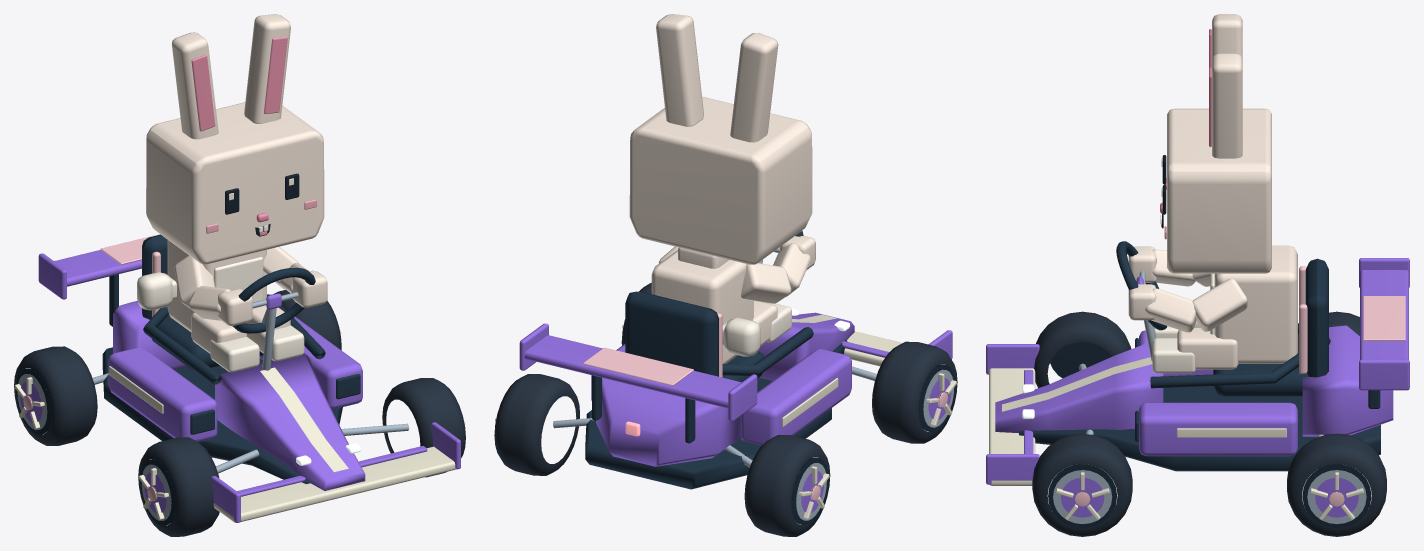
Rendered from kart_sora.glb.
3 views of the same model, side by side, from view 1: azimuth 30°, elevation 25°; view 2: azimuth 150°, elevation 25°; view 3: azimuth 270°, elevation 25° (orthographic). The views are drawn at different scales.
Parts seen in each view (by area): view 1: chassis, driver_pose, wheel_rl_spin, wheel_fl_spin, ear_r, ear_l, wheel_fr_spin, steering, wheel_rr_spin, tail, eyes; view 2: chassis, driver_pose, wheel_fl_spin, wheel_rl_spin, wheel_rr_spin, ear_r, ear_l, tail; view 3: chassis, driver_pose, wheel_fr_spin, wheel_rr_spin, wheel_fl_spin, ear_r, ear_l, steering.
Part boxes in pixels (box(x1,y1,x2,y2)): chassis: box(38, 234, 460, 522); driver_pose: box(146, 102, 327, 372); wheel_rl_spin: box(14, 346, 97, 445); wheel_fl_spin: box(138, 437, 219, 536); ear_r: box(244, 14, 290, 123); ear_l: box(171, 32, 218, 139); wheel_fr_spin: box(382, 378, 465, 477); steering: box(232, 267, 315, 333); wheel_rr_spin: box(273, 290, 341, 350); tail: box(137, 272, 176, 310); eyes: box(225, 173, 299, 214); chassis: box(519, 259, 952, 489); driver_pose: box(629, 96, 815, 363); wheel_fl_spin: box(872, 341, 957, 443); wheel_rl_spin: box(744, 435, 830, 536); wheel_rr_spin: box(494, 374, 579, 475); ear_r: box(656, 14, 703, 126); ear_l: box(730, 33, 778, 142); tail: box(722, 317, 760, 356); chassis: box(986, 258, 1409, 485); driver_pose: box(1128, 108, 1297, 373); wheel_fr_spin: box(1032, 433, 1132, 536); wheel_rr_spin: box(1287, 433, 1386, 536); wheel_fl_spin: box(1034, 311, 1131, 387); ear_r: box(1209, 53, 1242, 158); ear_l: box(1209, 14, 1242, 68); steering: box(1116, 241, 1167, 330).
Size of what is drawn, in the model's own units: 1.46 by 1.95 by 1.73.
